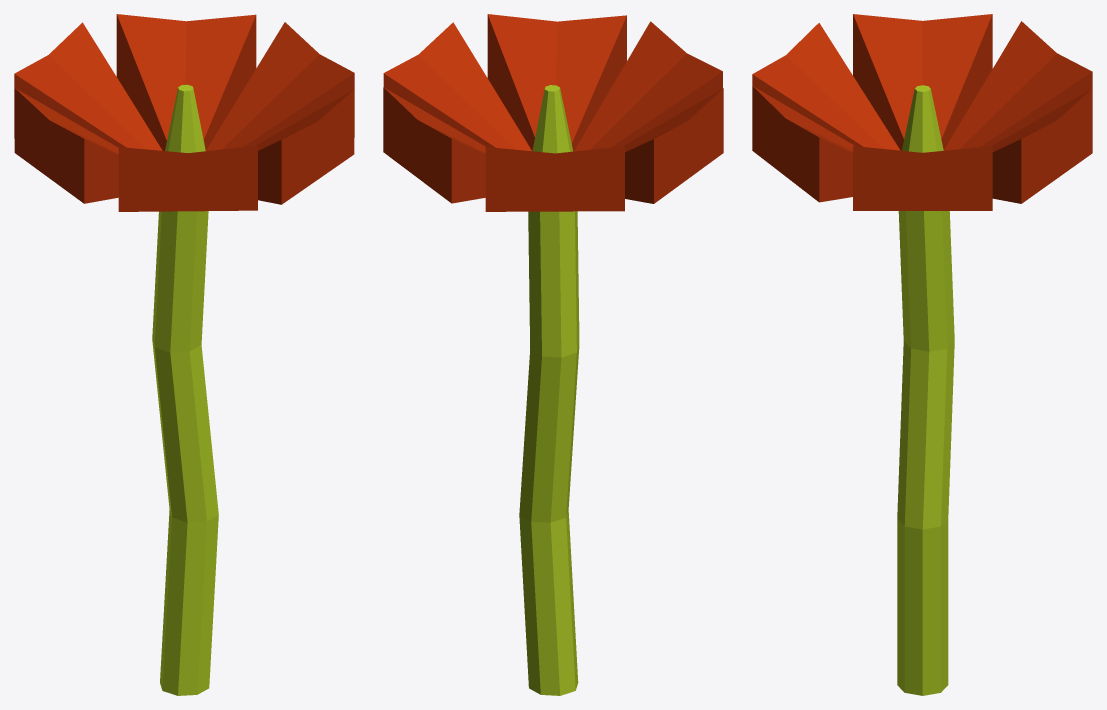
The model's file is Flower02.fbx.
3 renders of one model, left to right at view 1: azimuth 30°, elevation 25°; view 2: azimuth 150°, elevation 25°; view 3: azimuth 270°, elevation 25°, orthographic.
Visible parts, largest first — view 1: Flower02; view 2: Flower02; view 3: Flower02.
Boxes of the visible parts, x1,y1,x2,y2 form: Flower02: [14, 14, 354, 695]; Flower02: [383, 14, 723, 695]; Flower02: [752, 14, 1092, 695].
Bounding box in the file's own units: 0.1474 × 0.3152 × 0.1606.
